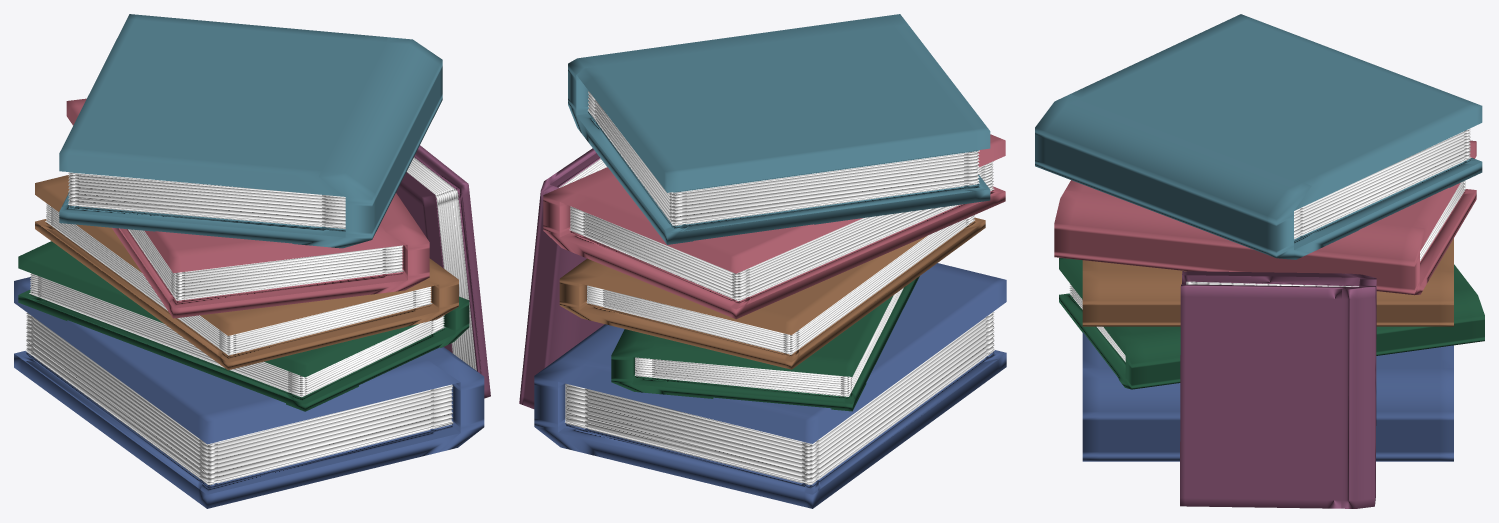
File: books.glb
3 renders of one model, left to right at view 1: azimuth 30°, elevation 25°; view 2: azimuth 150°, elevation 25°; view 3: azimuth 270°, elevation 25°, orthographic. The views are drawn at different scales.
Parts seen in each view (by area): view 1: Book-5, Book-1, Book-4, Book-2, Book-3, Book-6; view 2: Book-5, Book-1, Book-4, Book-3, Book-2, Book-6; view 3: Book-5, Book-6, Book-4, Book-1, Book-2, Book-3.
Part boxes in pixels (bbox=[...]): Book-5: bbox=[59, 14, 442, 248]; Book-1: bbox=[14, 277, 484, 508]; Book-4: bbox=[66, 98, 429, 318]; Book-2: bbox=[18, 241, 469, 411]; Book-3: bbox=[35, 175, 458, 370]; Book-6: bbox=[396, 145, 490, 398]; Book-5: bbox=[568, 14, 990, 244]; Book-1: bbox=[534, 263, 1006, 508]; Book-4: bbox=[543, 134, 1005, 319]; Book-3: bbox=[559, 215, 985, 369]; Book-2: bbox=[611, 276, 919, 411]; Book-6: bbox=[519, 148, 606, 408]; Book-5: bbox=[1035, 14, 1482, 259]; Book-6: bbox=[1180, 271, 1376, 508]; Book-4: bbox=[1054, 140, 1476, 295]; Book-1: bbox=[1082, 332, 1453, 461]; Book-2: bbox=[1059, 257, 1484, 389]; Book-3: bbox=[1082, 238, 1453, 326].
Size of what is drawn, in the model's own units: 3.88 by 2.94 by 3.88.
